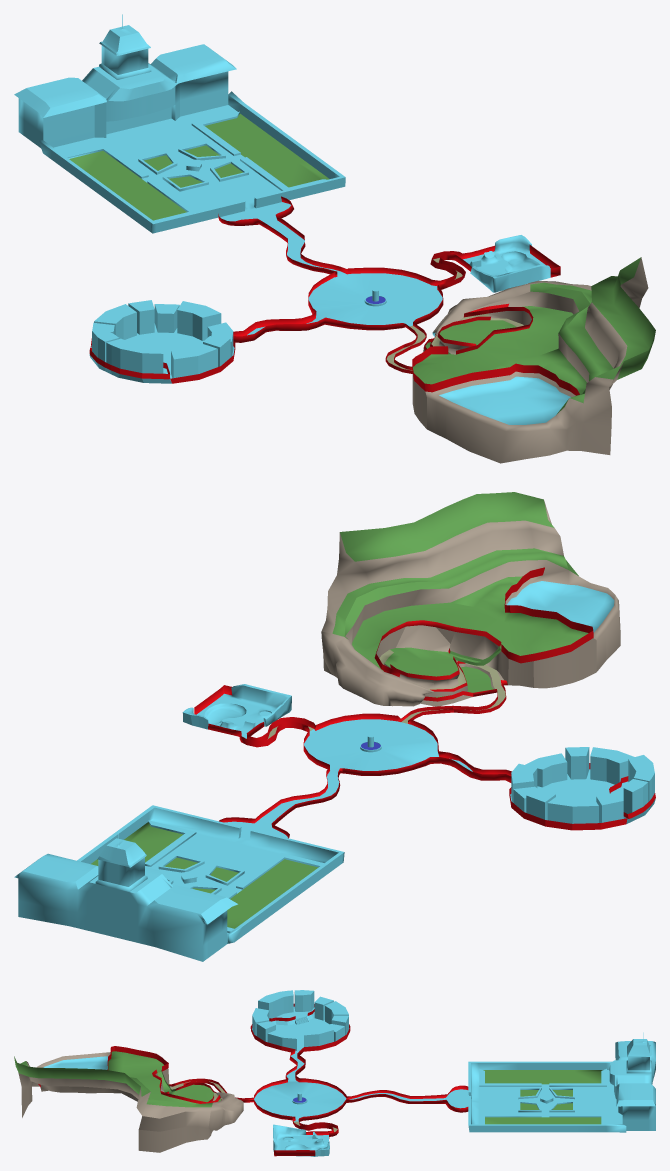
Rendered from map_blockout2.fbx.
The picture shows the model from 3 angles, top to bottom: view 1: azimuth 30°, elevation 25°; view 2: azimuth 150°, elevation 25°; view 3: azimuth 270°, elevation 25°; orthographic projection. The views are drawn at different scales.
Visible parts, largest first — view 1: Terrain_grass, Invisible_Wall; view 2: Terrain_grass, Invisible_Wall; view 3: Terrain_grass, Invisible_Wall.
Part boxes in pixels (<box>): Terrain_grass: <box>14,14,655,463</box>; Invisible_Wall: <box>89,196,579,395</box>; Terrain_grass: <box>14,492,655,961</box>; Invisible_Wall: <box>194,567,655,838</box>; Terrain_grass: <box>14,990,655,1156</box>; Invisible_Wall: <box>38,1003,468,1156</box>.
Bounding box in the file's own units: 4845 × 1172 × 8941.
